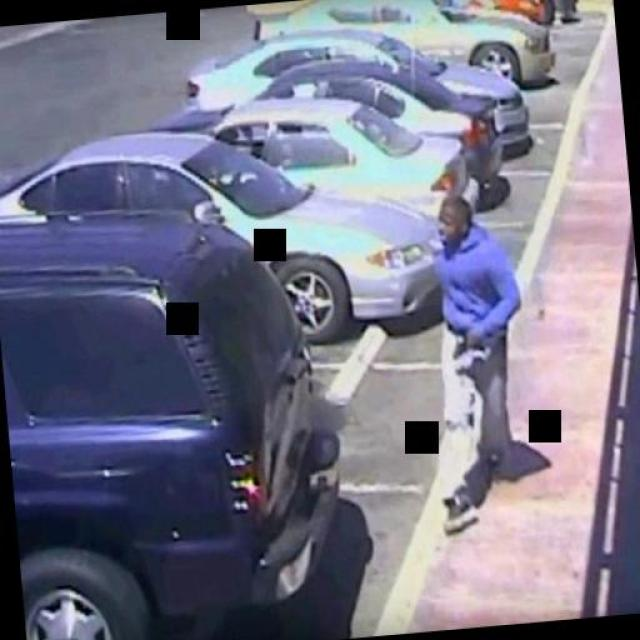gun: (440, 324, 484, 361)
